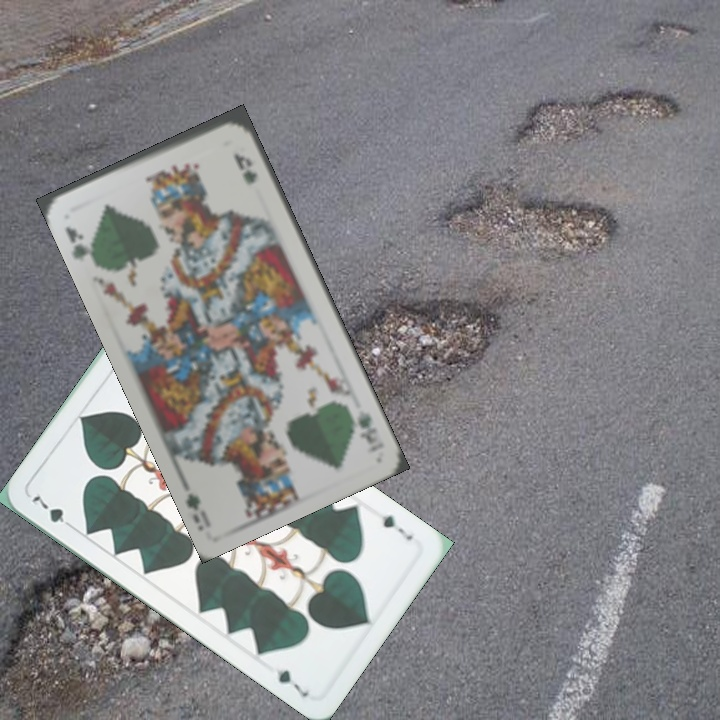G7: (27, 491, 78, 532), (377, 510, 416, 543)
GK: (61, 223, 96, 264), (353, 406, 380, 447)
